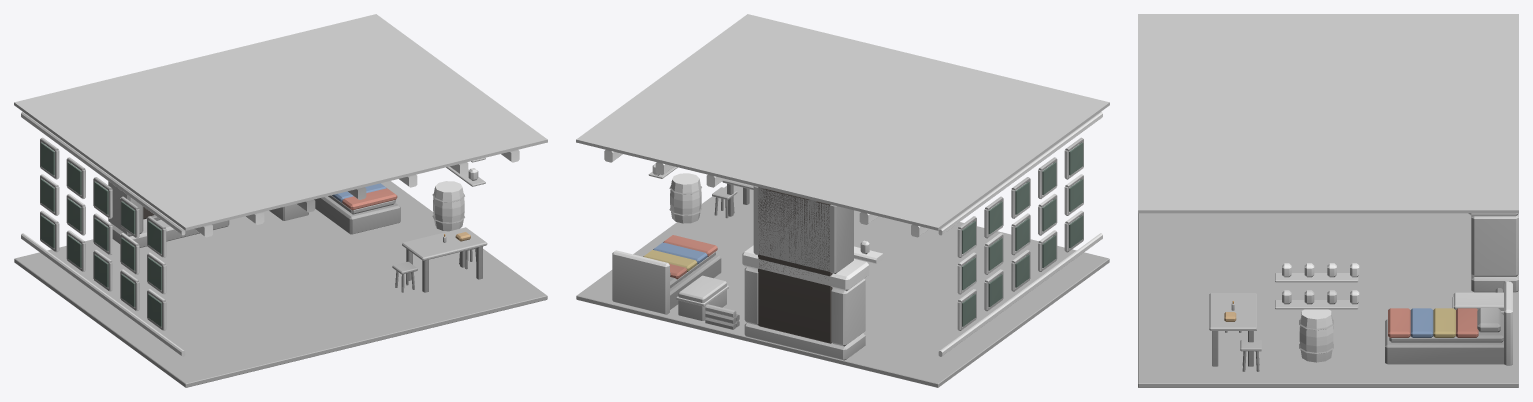
File: home_interior.glb
The picture shows the model from 3 angles, left to right: view 1: azimuth 30°, elevation 25°; view 2: azimuth 150°, elevation 25°; view 3: azimuth 270°, elevation 25°; orthographic projection. The views are drawn at different scales.
Parts seen in each view (by area): view 1: barrel; view 2: barrel; view 3: barrel.
Boxes of the visible parts, x1,y1,x2,y2 form: barrel: (14, 14, 547, 387); barrel: (576, 14, 1109, 387); barrel: (1138, 14, 1518, 387).
Bounding box in the file's own units: 7.8 × 3.3 × 6.4.
